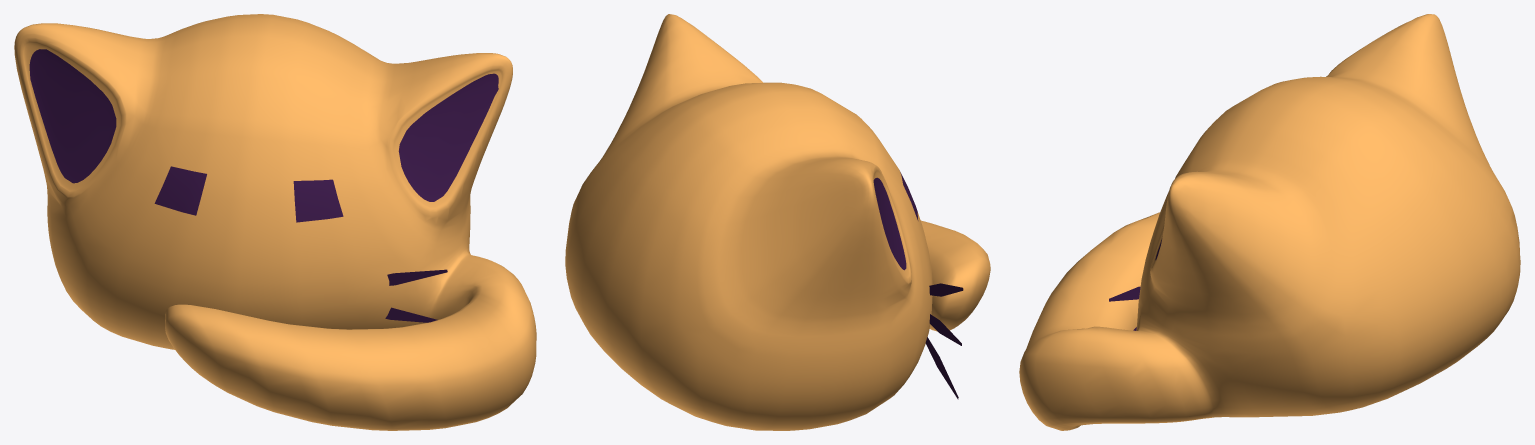
The model's file is ToyObject_081.fbx.
3 renders of one model, left to right at view 1: azimuth 30°, elevation 25°; view 2: azimuth 150°, elevation 25°; view 3: azimuth 270°, elevation 25°, orthographic. The views are drawn at different scales.
Parts seen in each view (by area): view 1: 1.021; view 2: 1.021; view 3: 1.021.
Boxes of the visible parts, x1,y1,x2,y2 form: 1.021: (14, 14, 536, 430); 1.021: (565, 14, 990, 430); 1.021: (1019, 14, 1520, 430).
Bounding box in the file's own units: 0.156 × 0.1155 × 0.1757.
